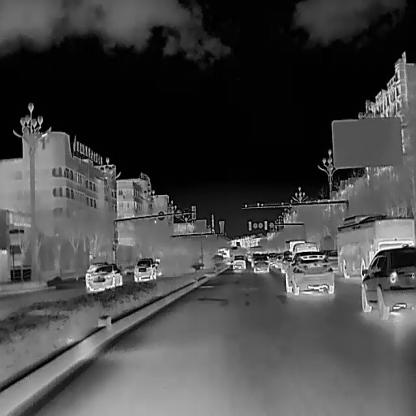bus: (336, 212, 415, 279), (283, 238, 305, 250)
car: (360, 247, 414, 321), (284, 250, 334, 294), (86, 262, 122, 288), (84, 260, 107, 288), (133, 257, 156, 280), (251, 253, 268, 271), (279, 252, 291, 273), (231, 253, 245, 269), (292, 242, 317, 250), (274, 251, 282, 267)
truck: (216, 246, 229, 268)
